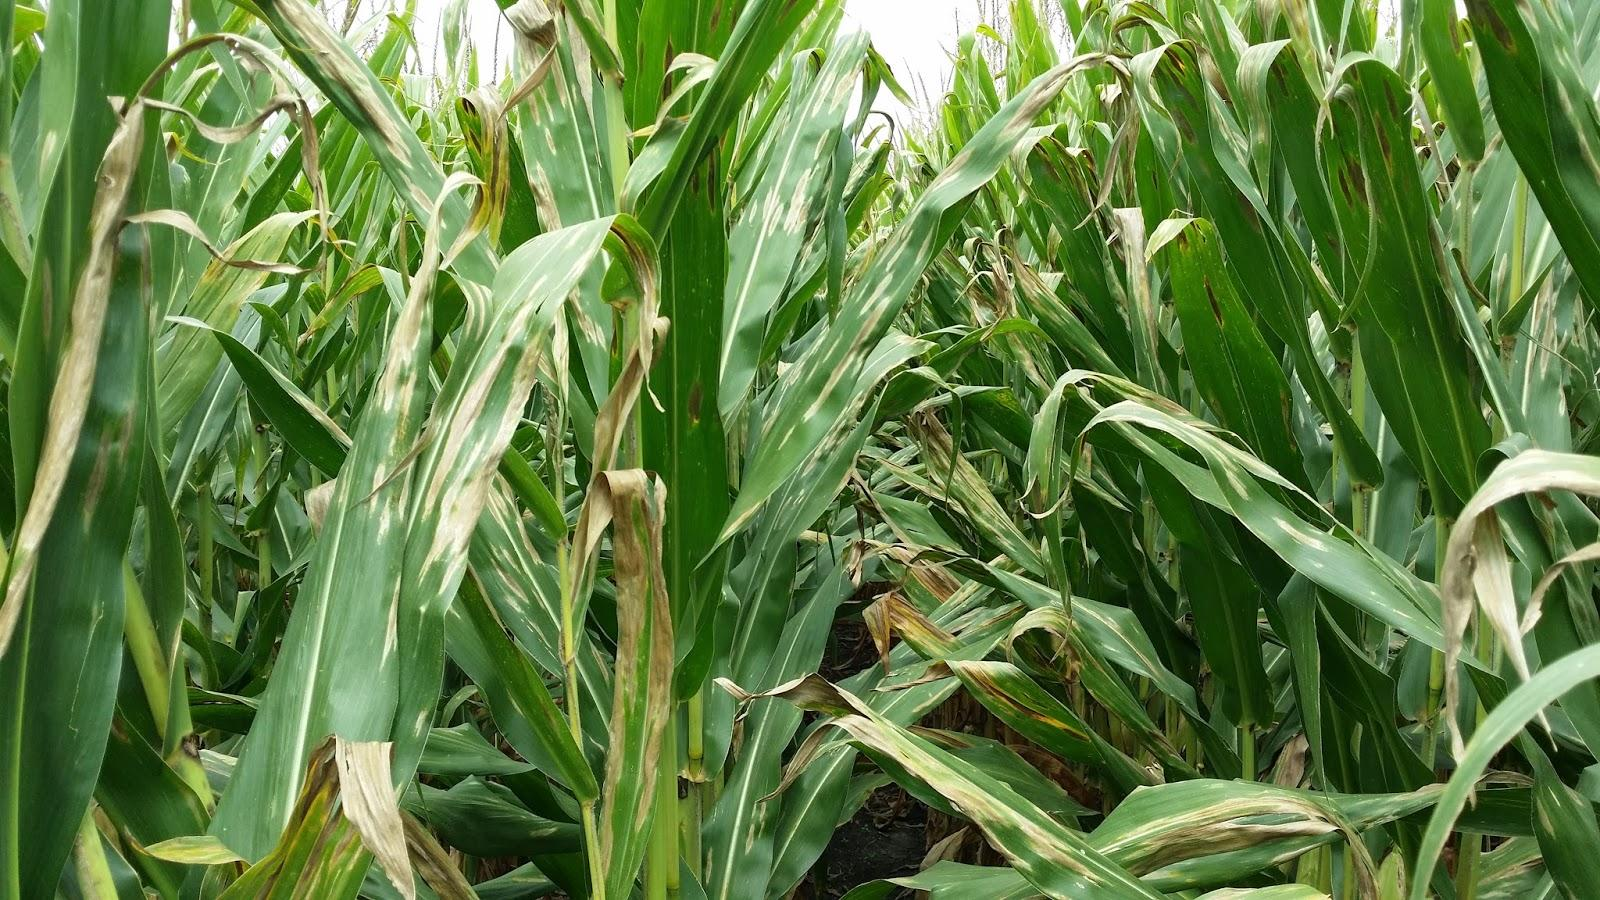Corn leaf blight: (701, 45, 1144, 586), (377, 209, 681, 900), (243, 156, 491, 873), (22, 2, 209, 899), (701, 662, 1177, 900), (1034, 380, 1452, 651), (693, 15, 885, 564), (1309, 38, 1520, 531), (1127, 38, 1348, 429), (502, 3, 642, 427), (570, 462, 701, 900), (1438, 438, 1596, 779), (1143, 204, 1315, 508), (1087, 749, 1402, 880)
